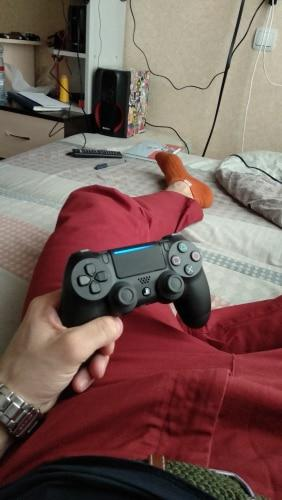pants: (16, 190, 282, 487)
